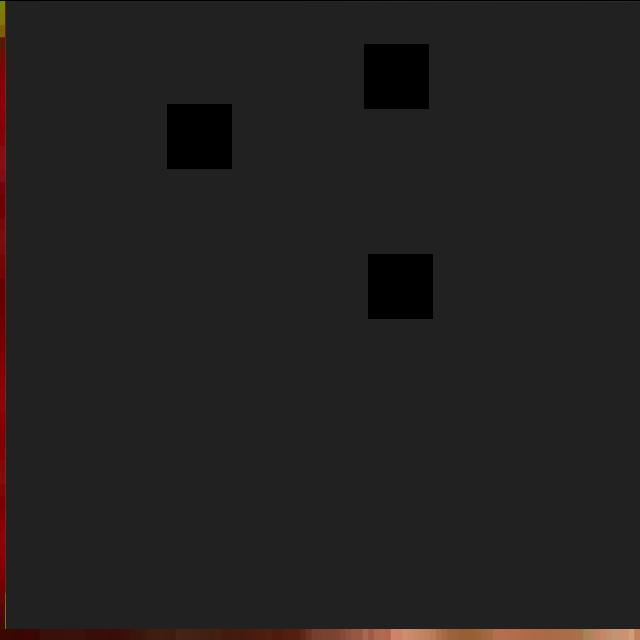fire: (5, 0, 640, 628)
